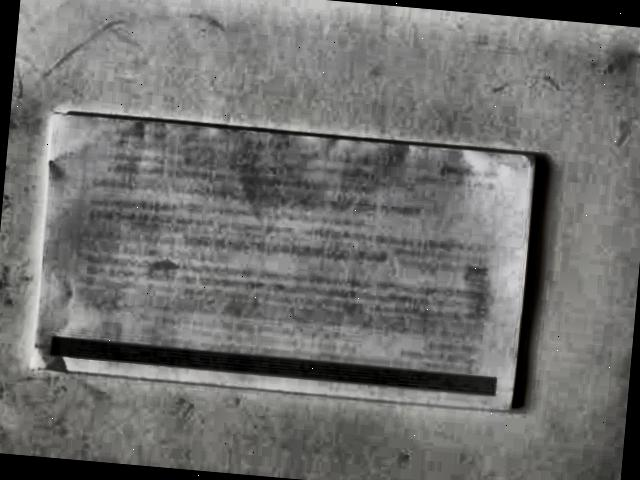Paper: (0, 86, 588, 446)
